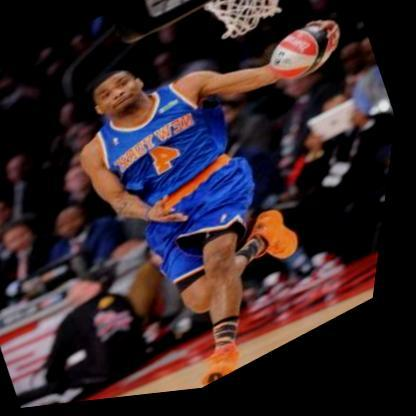basketball: (260, 20, 347, 99)
